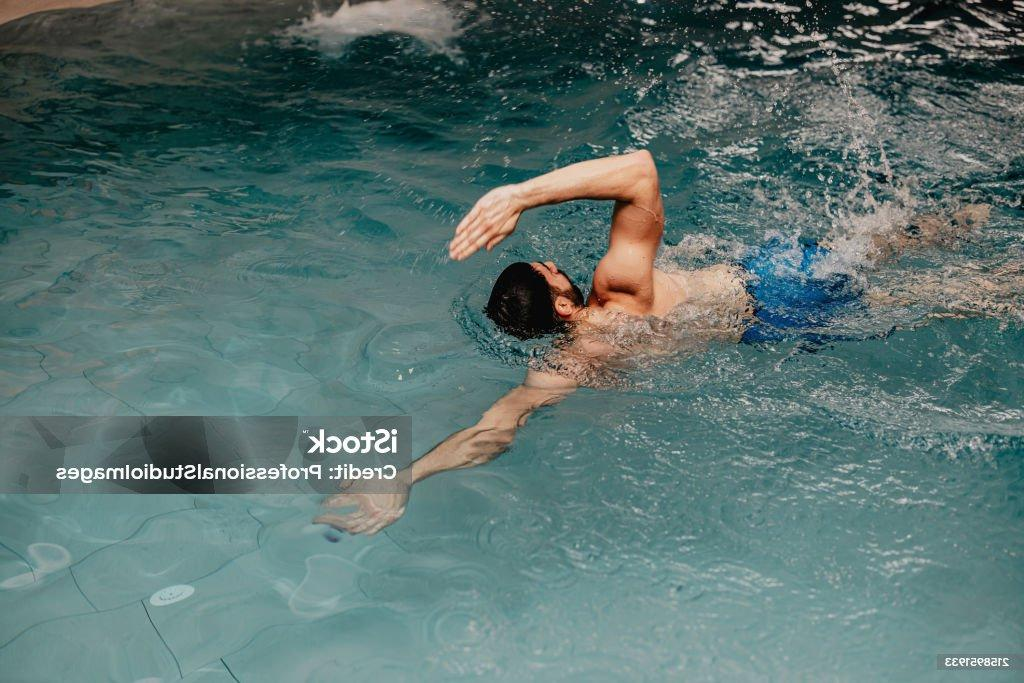Swimming: (317, 88, 1004, 575)
